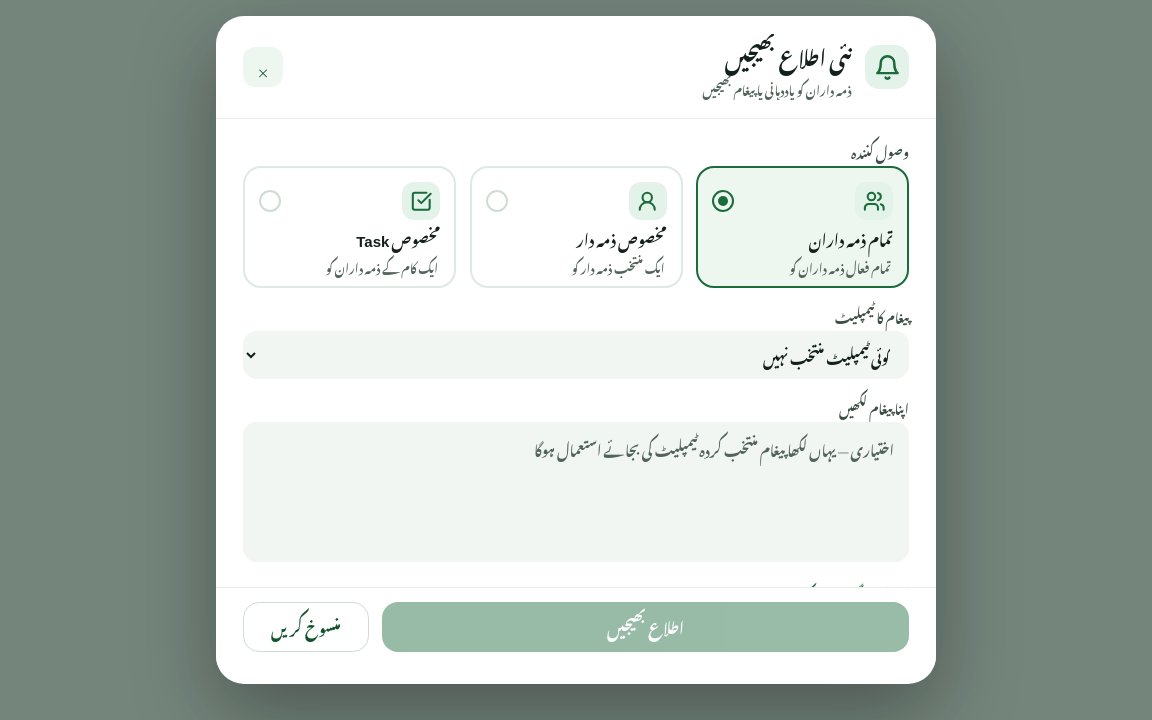
Test: SendNotificationDialog › switching to "مخصوص Task" shows a task search box; selecting a result shows the recipient preview text
The width and height of the screenshot is (1152, 720).
Step 1. Click the radio button labelled "مخصوص Task" → (350, 227), box [243,166,456,288]
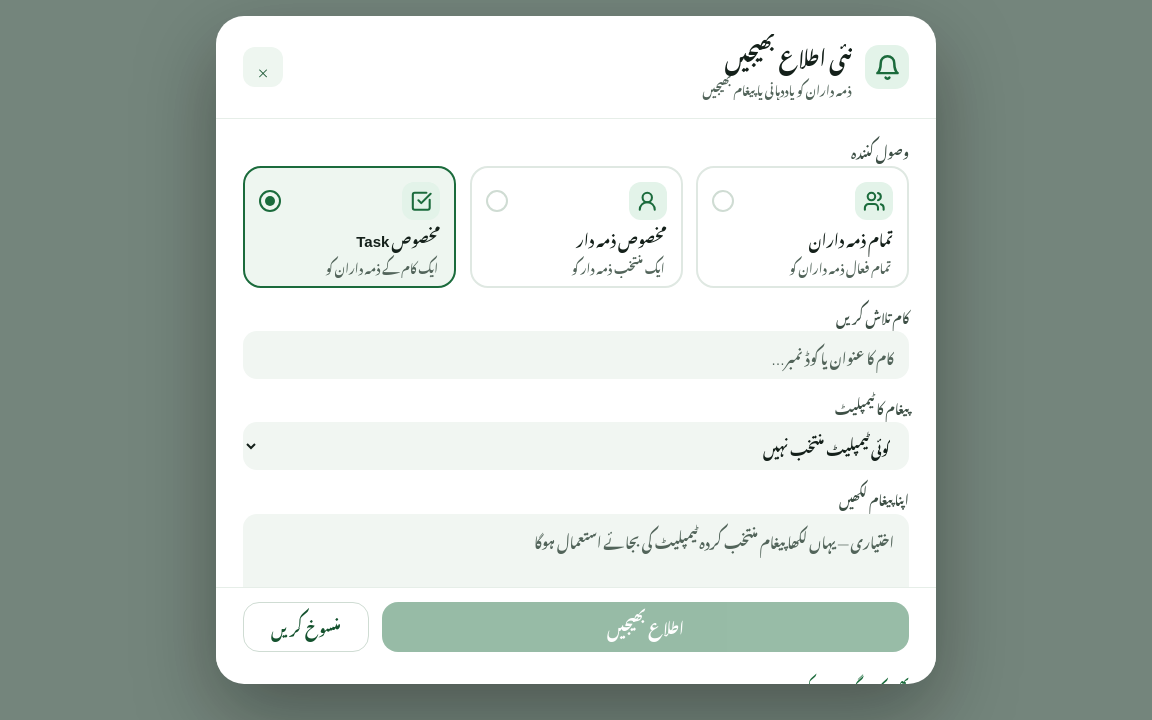
Step 2. Type "Sample" into the field labelled "کام تلاش کریں" → (576, 355), box [243,331,909,379]
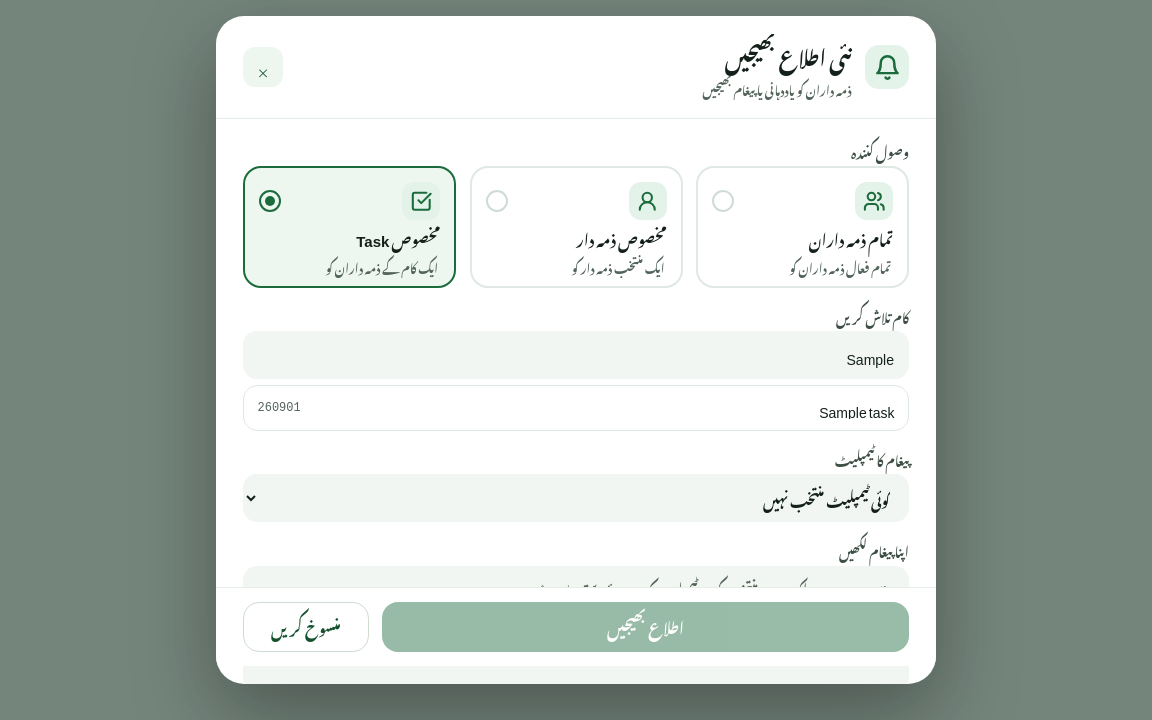
Step 3. Click the text "Sample task" → (857, 408), box [819,398,895,419]
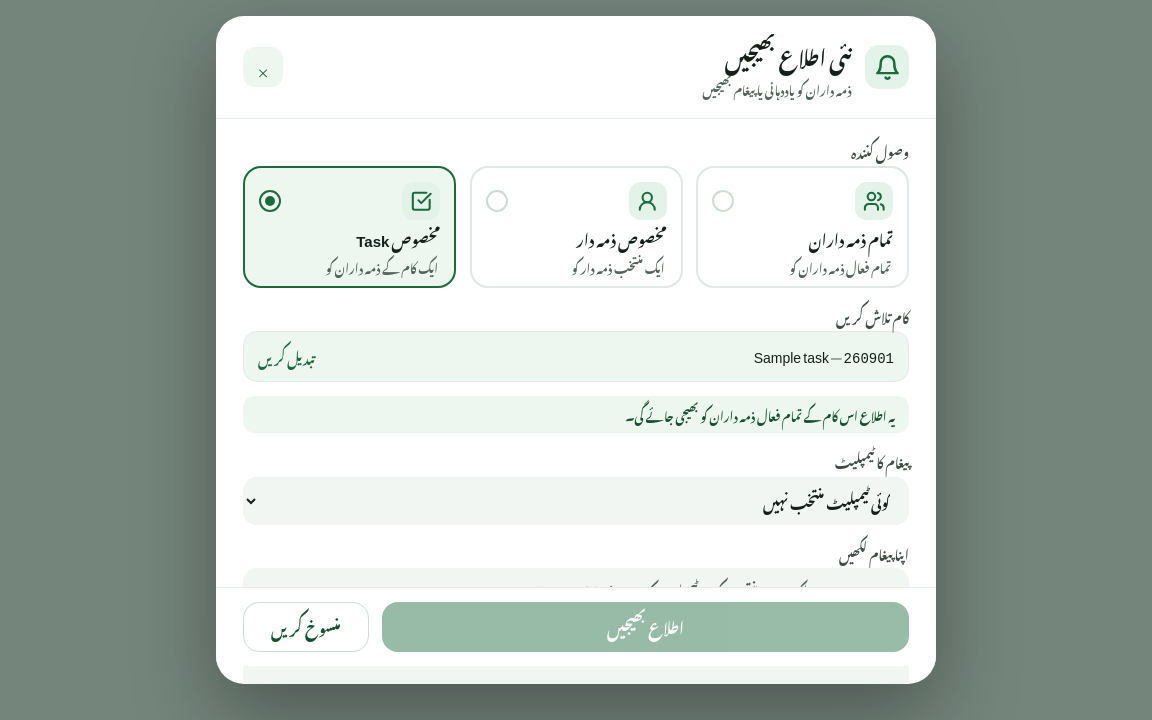
Expected: the text "یہ اطلاع اس کام کے تمام فعال ذمہ داران کو بھیجی جائے گی۔" is shown, [243,396,909,433]
